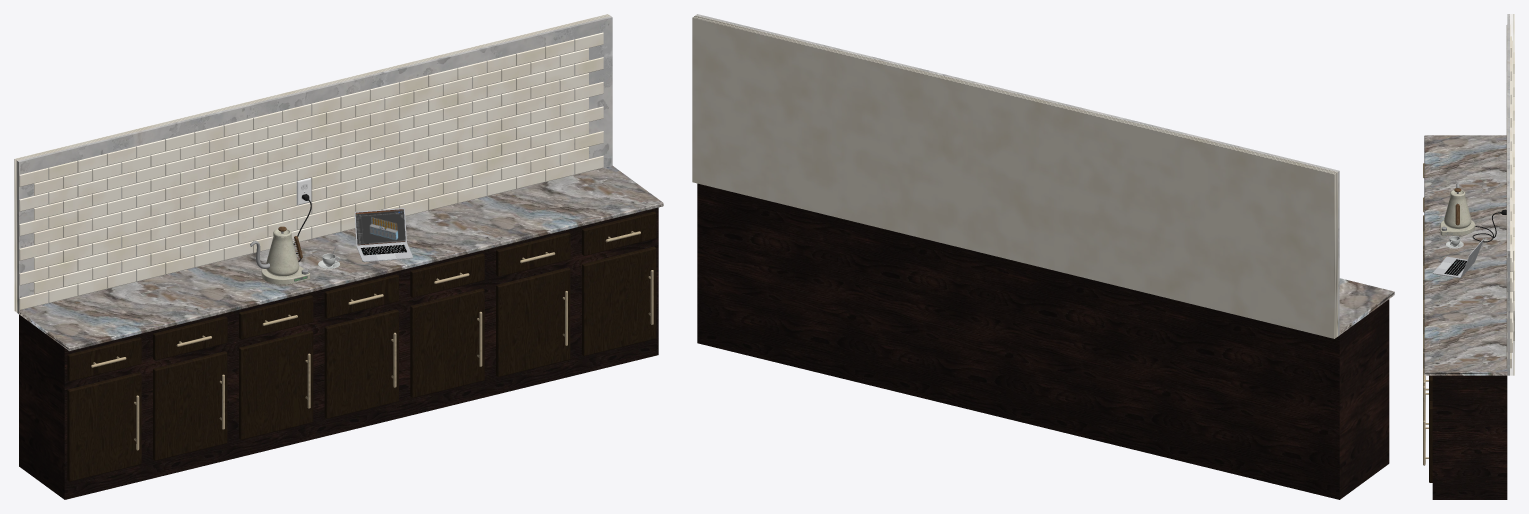
The model's file is kitchen.glb.
3 renders of one model, left to right at view 1: azimuth 30°, elevation 25°; view 2: azimuth 150°, elevation 25°; view 3: azimuth 270°, elevation 25°, orthographic. The views are drawn at different scales.
Visible parts, largest first — view 1: Drawer Face, Counter Base, Countertop, Tile 1B, Tile 1A, Tile 2A, Tile 2B, Backsplash, Drawer Pull, Laptop Display, Kettle Body, Laptop Body; view 2: Counter Base, Tile 2B, Backsplash, Countertop, Tile 1B, Tile 2A, Tile 1A; view 3: Countertop, Counter Base, Tile 1B, Backsplash, Tile 2B, Drawer Pull, Tile 2A, Kettle Body, Laptop Body, Tile 1A, Drawer Face, Kettle Baseplate (+2 smaller).
Boxes of the visible parts, x1,y1,x2,y2 form: Drawer Face: (67,211,656,481); Counter Base: (19,207,658,499); Countertop: (19,165,663,351); Tile 1B: (16,15,610,312); Tile 1A: (17,16,610,312); Tile 2A: (15,14,608,311); Tile 2B: (14,14,608,310); Backsplash: (17,16,612,313); Drawer Pull: (91,231,653,450); Laptop Display: (355,209,405,245); Kettle Body: (266,234,299,276); Laptop Body: (354,208,412,262); Counter Base: (697,183,1389,499); Tile 2B: (692,17,1334,338); Backsplash: (696,14,1339,336); Countertop: (1339,278,1394,334); Tile 1B: (694,16,1336,337); Tile 2A: (693,16,1335,338); Tile 1A: (695,15,1337,336); Countertop: (1424,135,1507,375); Counter Base: (1432,375,1507,499); Tile 1B: (1506,14,1512,375); Backsplash: (1507,14,1509,375); Tile 2B: (1510,14,1514,375); Drawer Pull: (1423,163,1428,465); Tile 2A: (1506,14,1513,375); Kettle Body: (1444,194,1471,228); Laptop Body: (1432,238,1483,277); Tile 1A: (1506,14,1510,375); Drawer Face: (1429,375,1432,482); Kettle Baseplate: (1440,220,1475,235).
Size of the model in its own units: 4.08 by 2 by 0.669.
42 materials, 38 textured.
